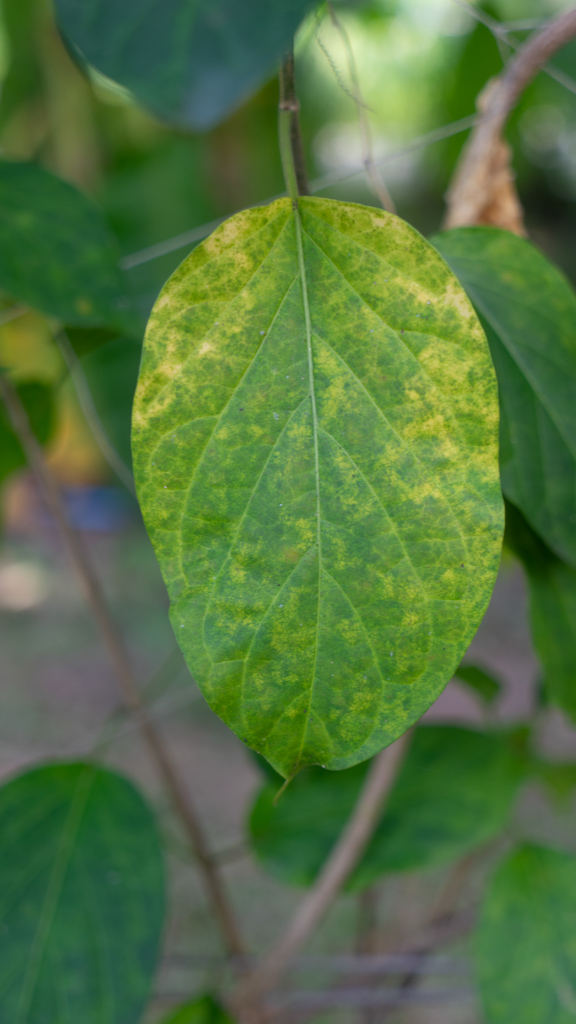Pepper yellow leaf: (132, 197, 504, 800)
